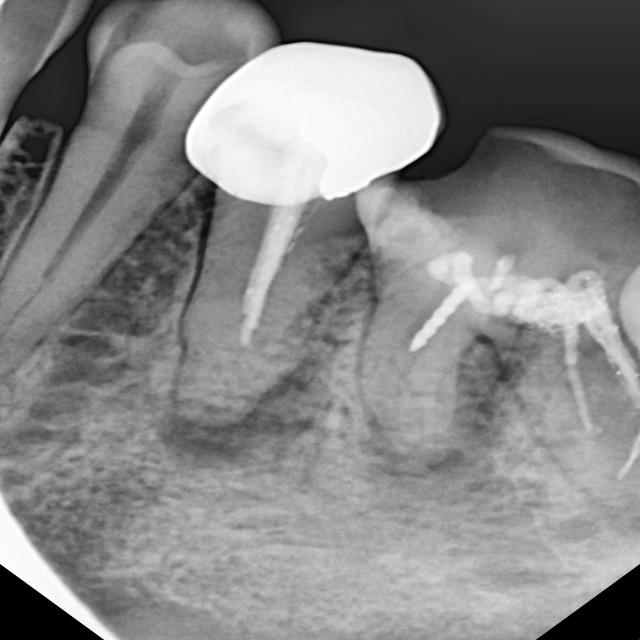Crown: (157, 12, 464, 222)
Normal: (0, 1, 304, 424)
RCT: (338, 235, 640, 500), (144, 190, 381, 448)
